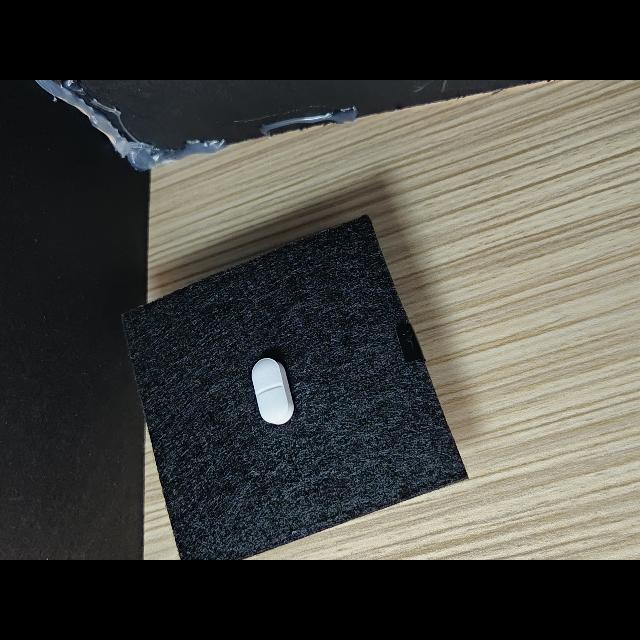Intact Pill: (252, 358, 294, 425)
